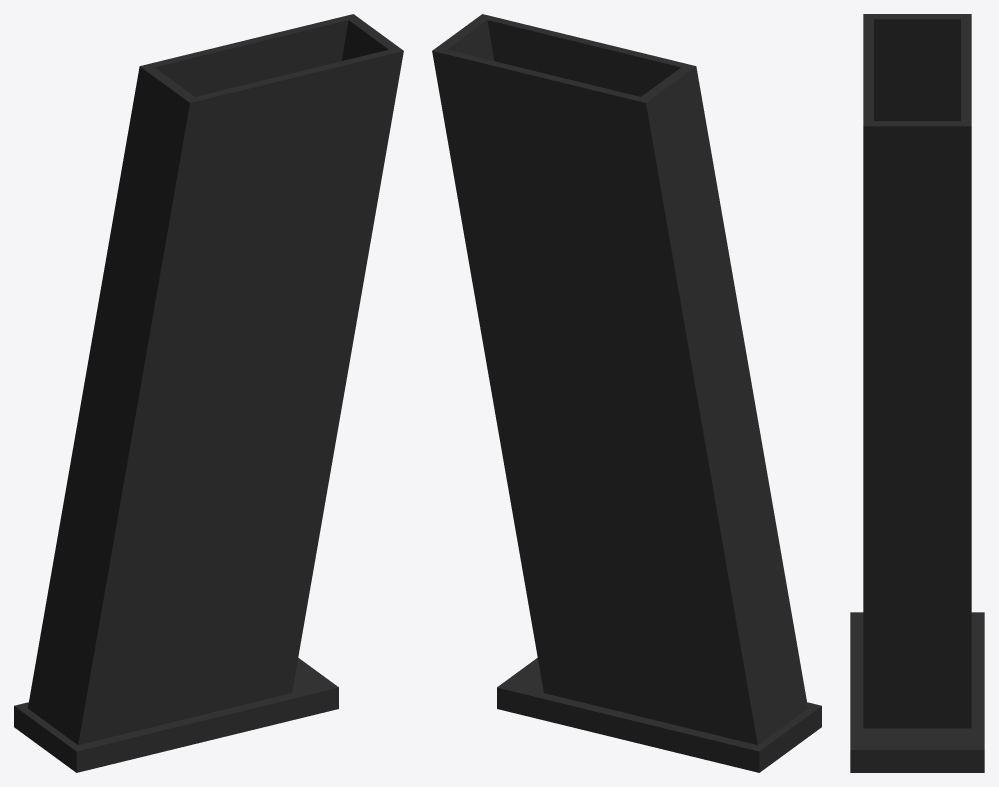
Rendered from Pistol1_04_5.fbx.
3 views of the same model, side by side, from view 1: azimuth 30°, elevation 25°; view 2: azimuth 150°, elevation 25°; view 3: azimuth 270°, elevation 25° (orthographic). The views are drawn at different scales.
Visible parts, largest first — view 1: Pistol1_04_5; view 2: Pistol1_04_5; view 3: Pistol1_04_5.
Boxes of the visible parts, x1=… form: Pistol1_04_5: x1=14, y1=14, x2=403, y2=772; Pistol1_04_5: x1=432, y1=14, x2=821, y2=772; Pistol1_04_5: x1=850, y1=14, x2=984, y2=772.
Bounding box in the file's own units: 0.0725 × 0.1321 × 0.0235.
